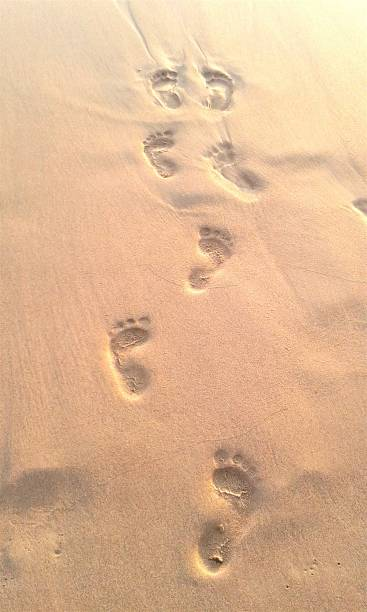human_foot_print: (110, 316, 149, 394), (206, 141, 264, 193), (212, 449, 257, 513), (188, 225, 232, 290), (197, 521, 231, 573), (143, 130, 176, 177), (201, 67, 233, 110), (198, 225, 232, 265), (149, 68, 181, 109), (188, 267, 213, 290)
